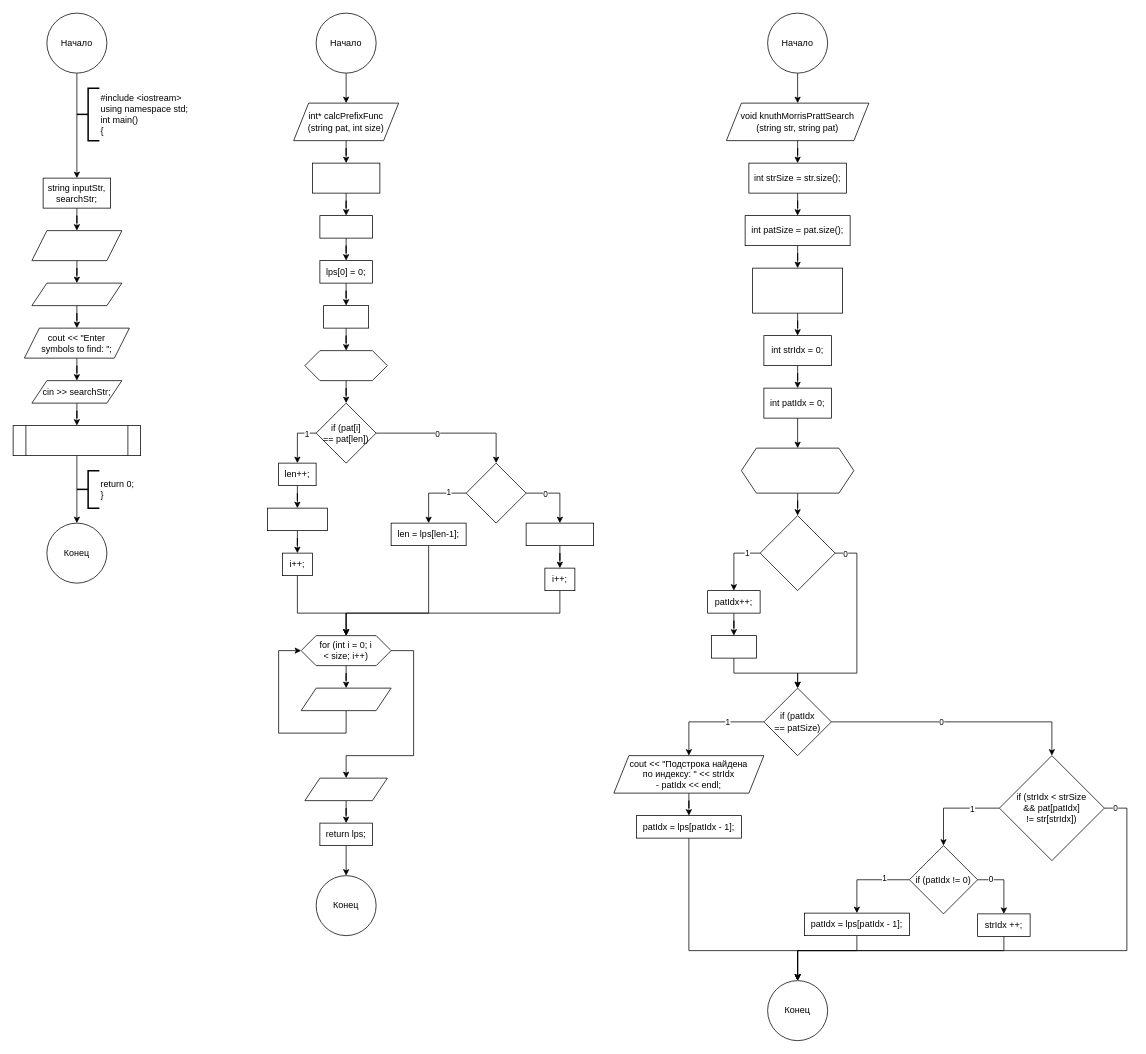
Image size: 1146x1054. Some labels were removed from this diagram. The centre of each missing label's shape, as x and y in pixels:
cin >> inputStr;: (x=76, y=294)
cout << "Enter string: ";: (x=76, y=245)
cout << endl;: (x=345, y=789)
cout << lps[i];: (x=345, y=699)
if (len != 0): (x=495, y=492)
if (pat[patIdx] == str[strIdx]): (x=797, y=553)
int i = 1;: (x=346, y=316)
int len = 0;: (x=345, y=226)
int* lps = calcPrefixFunc(pat, patSize);: (x=797, y=290)
int* lps = new int[size];: (x=346, y=177)
knuthMorrisPrattSearch (inputStr, searchStr);: (x=76, y=440)
lps[i] = 0;: (x=559, y=534)
lps[i] = len;: (x=297, y=519)
strIdx++;: (x=733, y=646)
while ( (strSize - strIdx) >= (patSize - patIdx)): (x=797, y=470)
while (i < size): (x=345, y=365)
